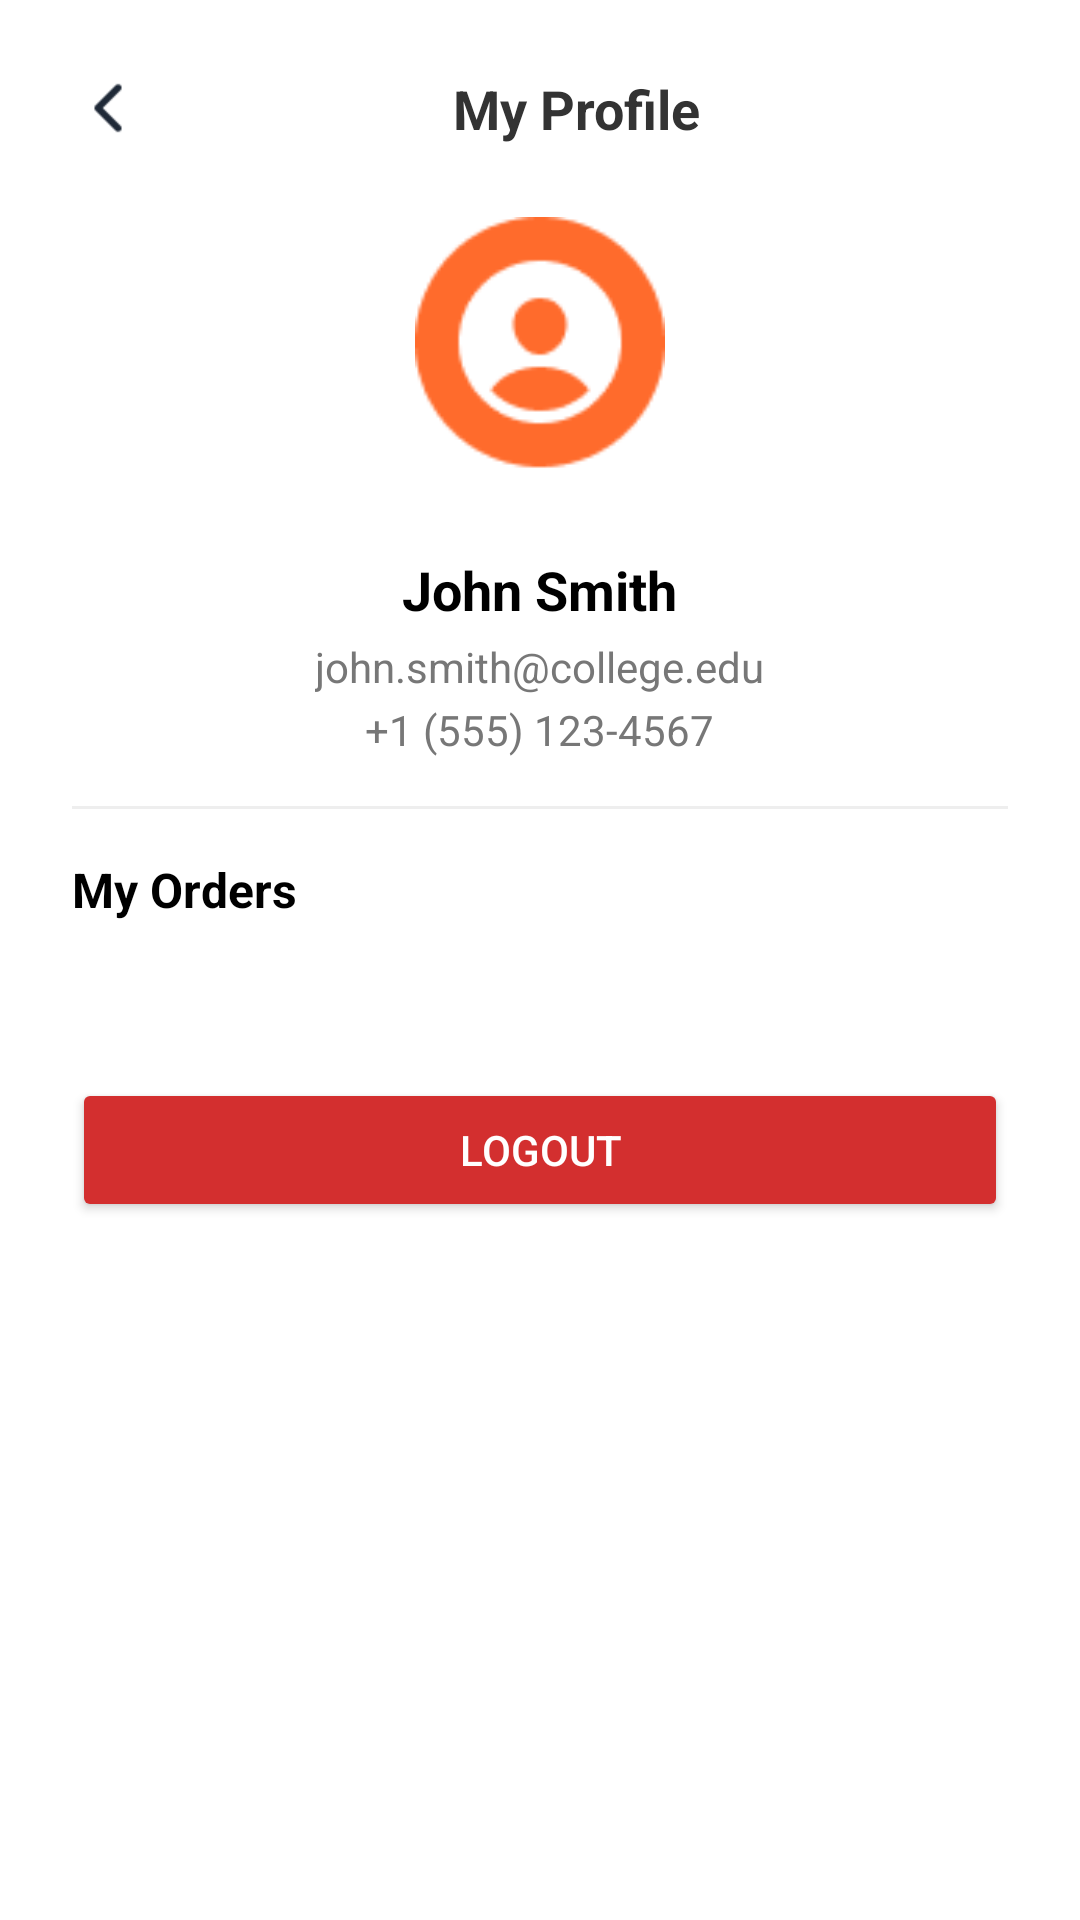

Icon click points for this 1080*1920 phone screenshot, format (x,y):
Back: (108,108)
